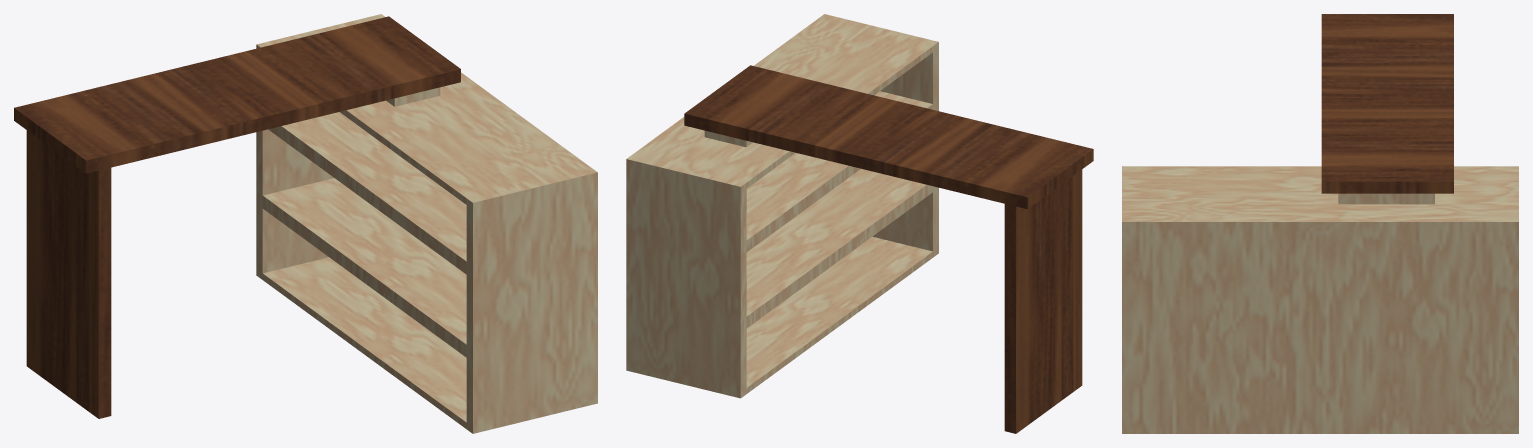
Rendered from office_desk.glb.
3 views of the same model, side by side, from view 1: azimuth 30°, elevation 25°; view 2: azimuth 150°, elevation 25°; view 3: azimuth 270°, elevation 25° (orthographic). The views are drawn at different scales.
Parts seen in each view (by area): view 1: OfficeDesk; view 2: OfficeDesk; view 3: OfficeDesk.
Boxes of the visible parts, x1,y1,x2,y2 form: OfficeDesk: [14, 14, 597, 433]; OfficeDesk: [626, 14, 1093, 433]; OfficeDesk: [1122, 14, 1518, 433].
Bounding box in the file's own units: 1.61 × 1 × 1.5.
Materials: 2 (2 with a texture image).
